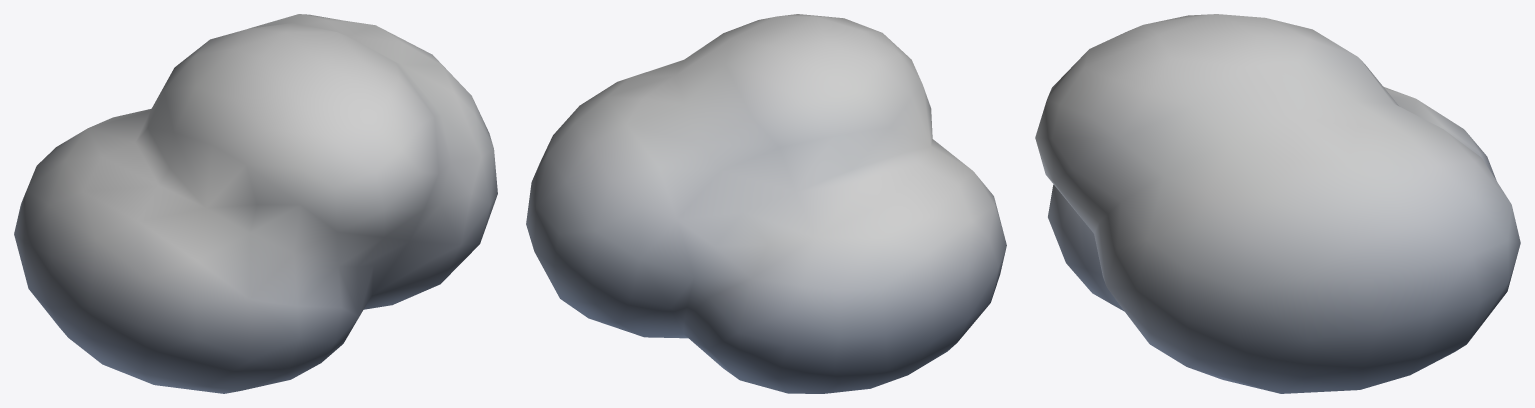
Rendered from Cloudstone.glb.
3 renders of one model, left to right at view 1: azimuth 30°, elevation 25°; view 2: azimuth 150°, elevation 25°; view 3: azimuth 270°, elevation 25°, orthographic. The views are drawn at different scales.
Visible parts, largest first — view 1: Cloudstone; view 2: Cloudstone; view 3: Cloudstone.
Boxes of the visible parts, x1,y1,x2,y2 form: Cloudstone: [14, 14, 497, 393]; Cloudstone: [526, 14, 1006, 393]; Cloudstone: [1035, 14, 1520, 393].
Bounding box in the file's own units: 1.21 × 0.86 × 1.12.
